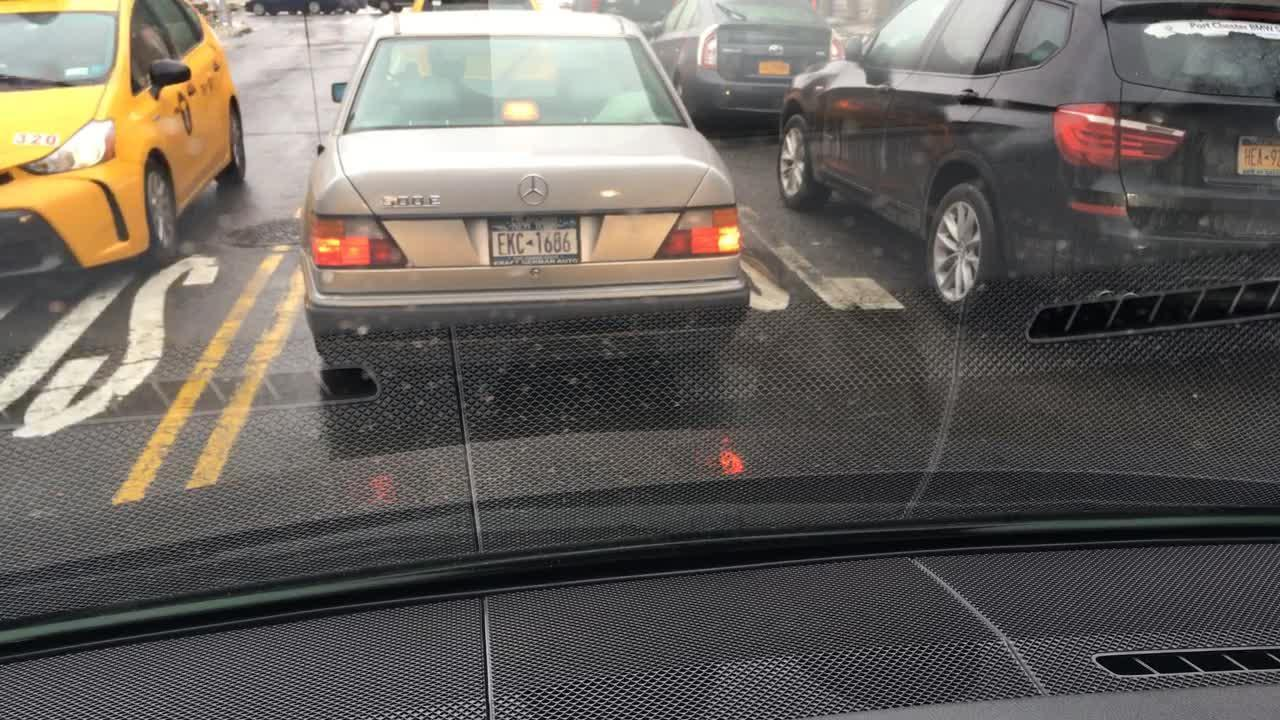Mercedes: (509, 158, 563, 218)
